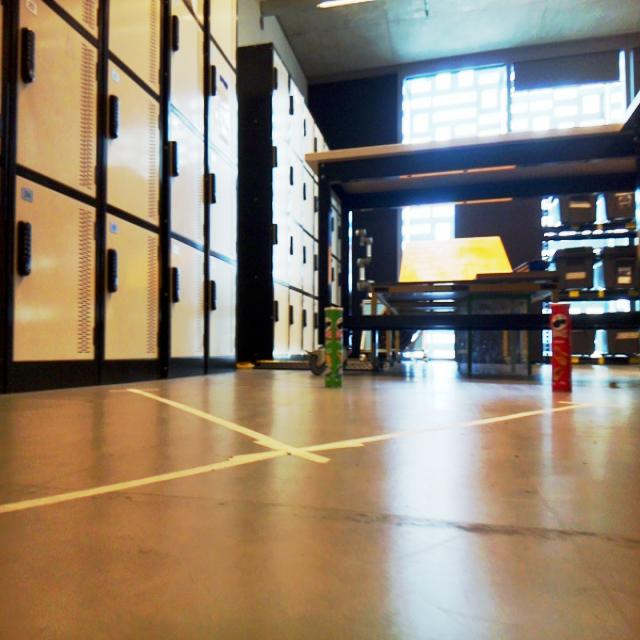greenpringles: (315, 292, 354, 392)
redpringles: (536, 290, 580, 399)
